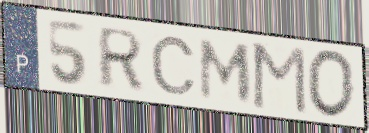5: (45, 16, 89, 89)
C: (148, 34, 199, 97)
M: (250, 40, 309, 117), (198, 37, 254, 105)
O: (304, 47, 357, 121)
R: (96, 25, 146, 91)
